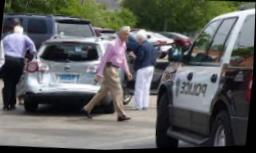Bumper: (25, 71, 100, 94)
Dickey: (32, 54, 100, 89)
